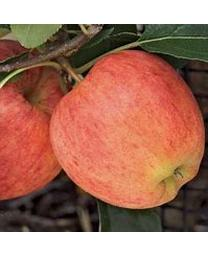apple: (50, 51, 205, 210), (2, 38, 69, 199)
